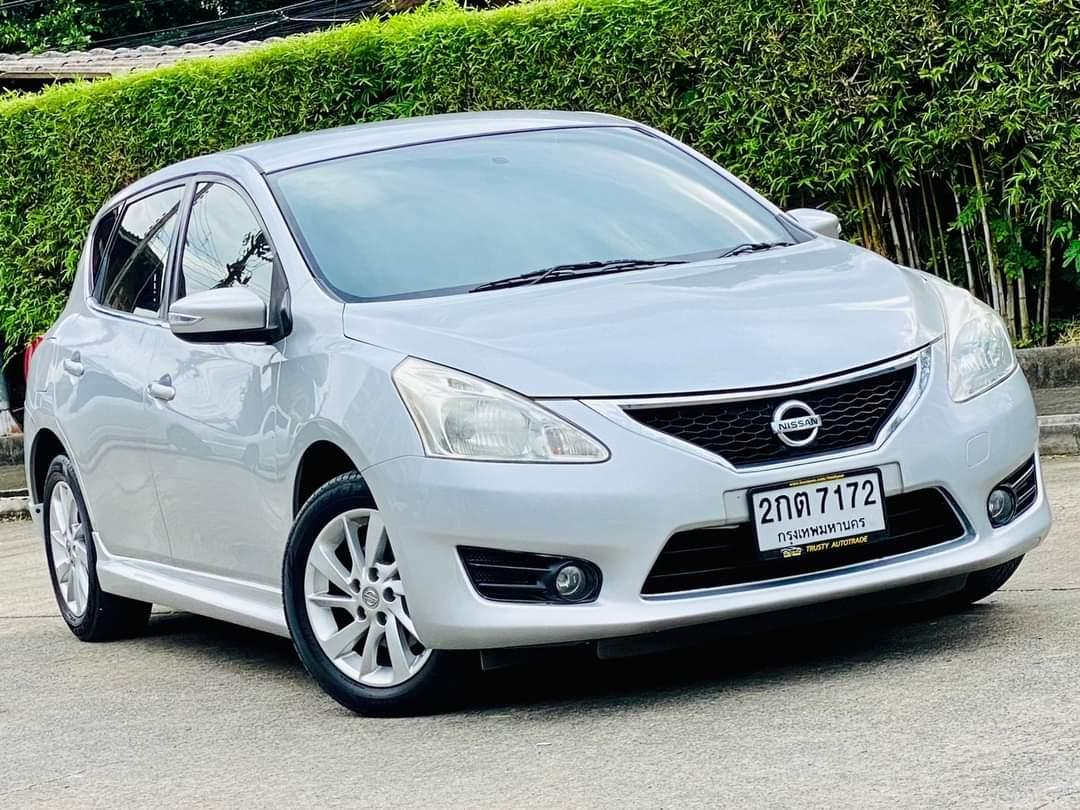license-plate: (742, 462, 895, 568)
